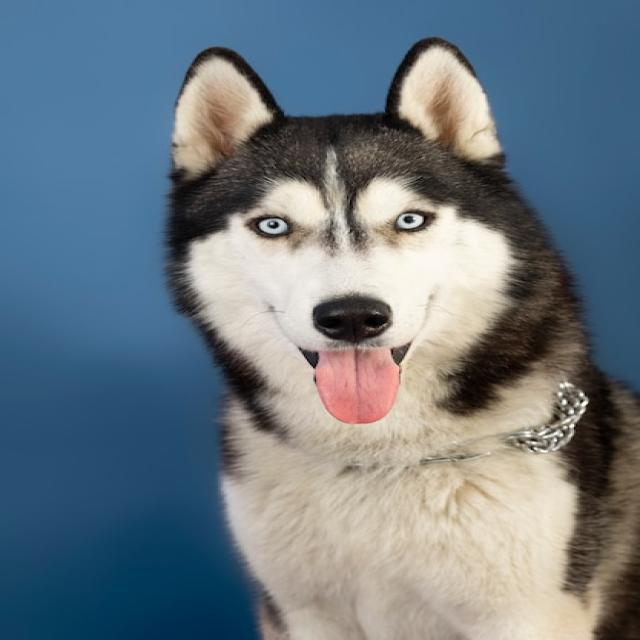Dog: (165, 36, 640, 640)
